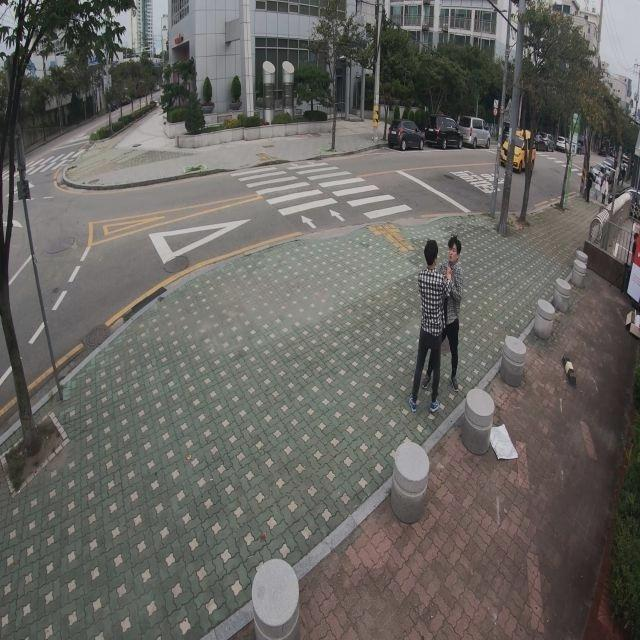fight: (407, 234, 463, 415)
